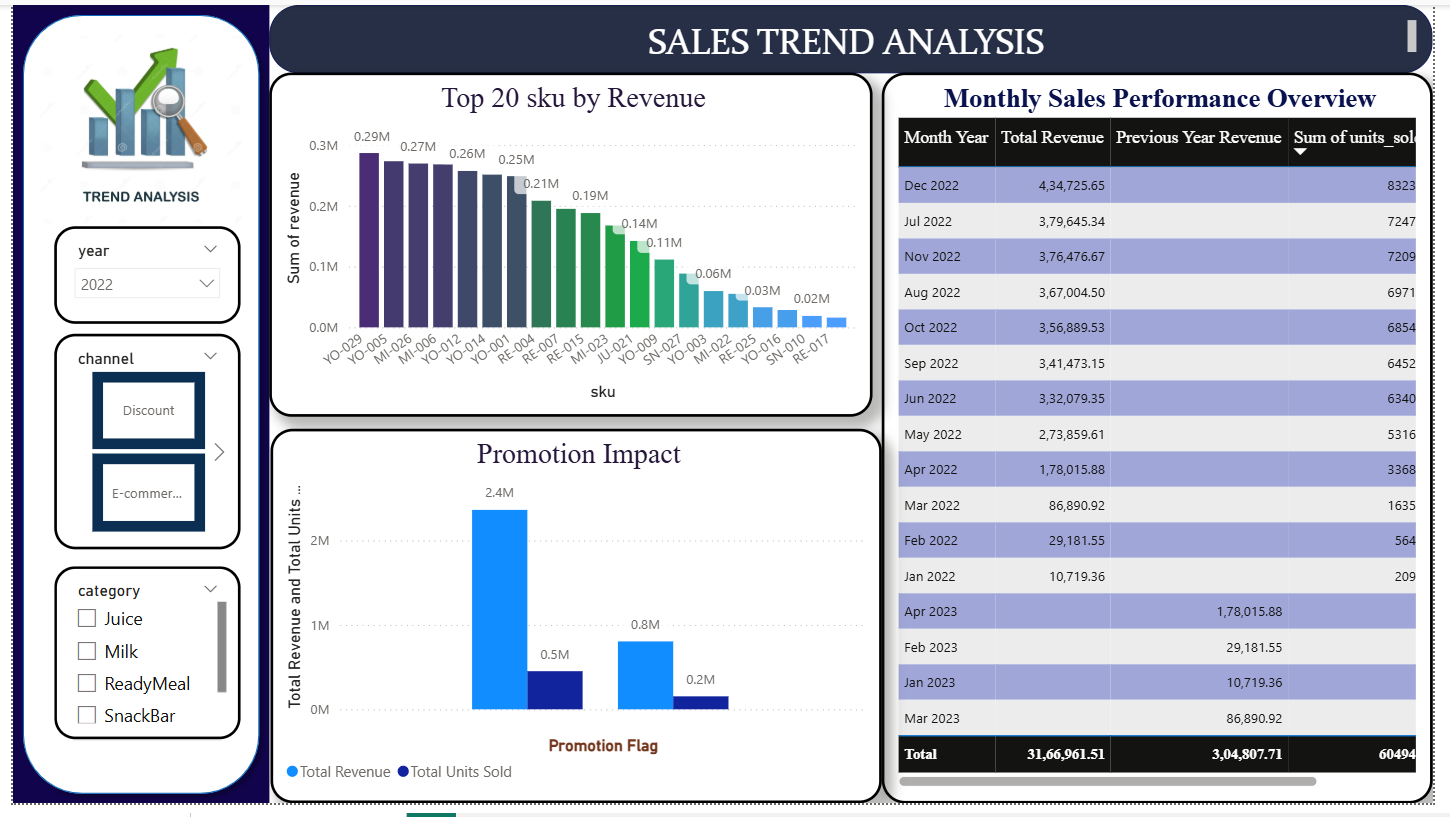

Layout of this report page (visuals, bound fields, positions):
{"tool":"powerbi","page":{"name":"SALES TREND ANALYSIS","canvas":[1280,720],"ordinal":1},"visuals":[{"type":"shape","box":[0,0,231.1,720.2],"z":0},{"type":"image","box":[24.4,24.4,181.4,174.4],"z":1000},{"type":"textbox","box":[231.4,0,1048.8,61.6],"z":2000},{"type":"tableEx","title":"Monthly Sales Performance Overview","fields":{"Values":["DateTable.Month Year","fmcg_clean_final.Total Revenue","DateTable.Previous Year Revenue","Sum(fmcg_clean_final.units_sold)","fmcg_clean_final.Avg Revenue"]},"box":[783.3,60.9,497.1,659.4],"z":3000},{"type":"slicer","fields":{"Values":["fmcg_clean_final.year"]},"box":[37.6,199,168.3,87.7],"z":4000},{"type":"slicer","fields":{"Values":["fmcg_clean_final.channel"]},"box":[37.6,296.3,168.3,194.8],"z":5000},{"type":"slicer","fields":{"Values":["fmcg_clean_final.category"]},"box":[37.6,506.4,168.3,155.8],"z":6000},{"type":"lineClusteredColumnComboChart","title":"Top 20 sku by Revenue","fields":{"Category":["fmcg_clean_final.sku"],"Y":["Sum(fmcg_clean_final.revenue)"]},"box":[231.2,61.2,543.8,310],"z":7000},{"type":"lineClusteredColumnComboChart","title":"Promotion Impact","fields":{"Category":["fmcg_clean_final.promotion_flag"],"Y":["fmcg_clean_final.Total Revenue","fmcg_clean_final.Total Units Sold"]},"box":[232.5,382.5,551.2,337.5],"z":8000}]}

Visuals, with their boxes in screenshot pixels (x1, y1, x2, y2), scaled from the page's 1280x720 canvas onto the 1450x817 screenshot:
shape: 0 0 262 816
image: 28 28 233 226
textbox: 262 0 1449 70
"Monthly Sales Performance Overview" tableEx: 887 69 1449 816
slicer - fmcg_clean_final.year: 43 226 233 325
slicer - fmcg_clean_final.channel: 43 336 233 557
slicer - fmcg_clean_final.category: 43 575 233 751
"Top 20 sku by Revenue" lineClusteredColumnComboChart: 262 69 878 421
"Promotion Impact" lineClusteredColumnComboChart: 263 434 888 816
